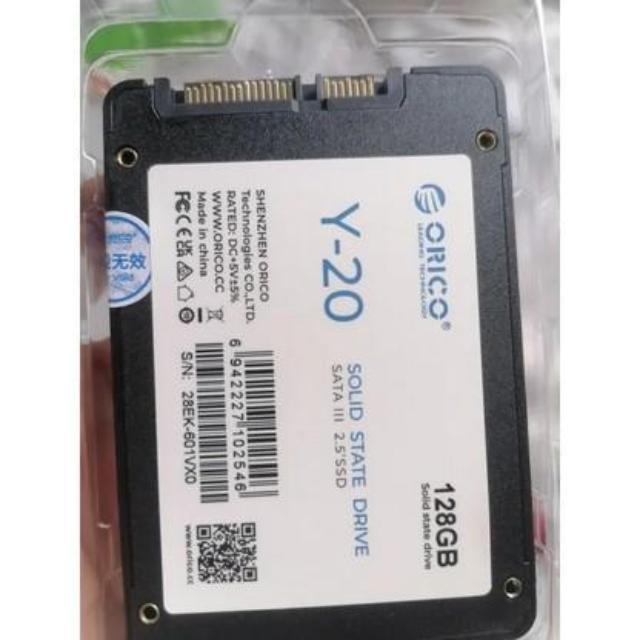DISK: (81, 58, 544, 640)
